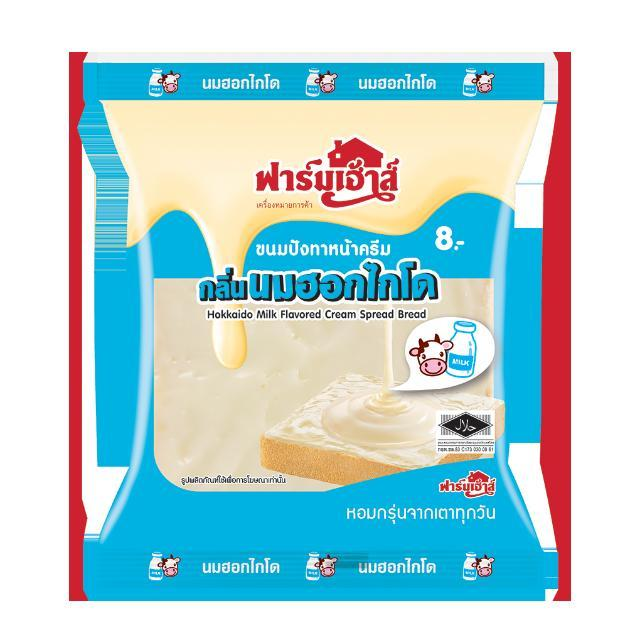Paquete de plastico: (67, 51, 570, 600)
